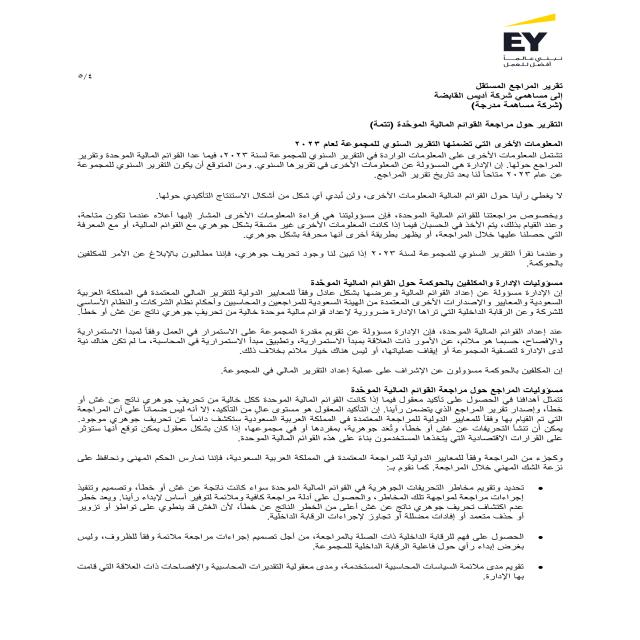auditor_report: (361, 117, 578, 131)
